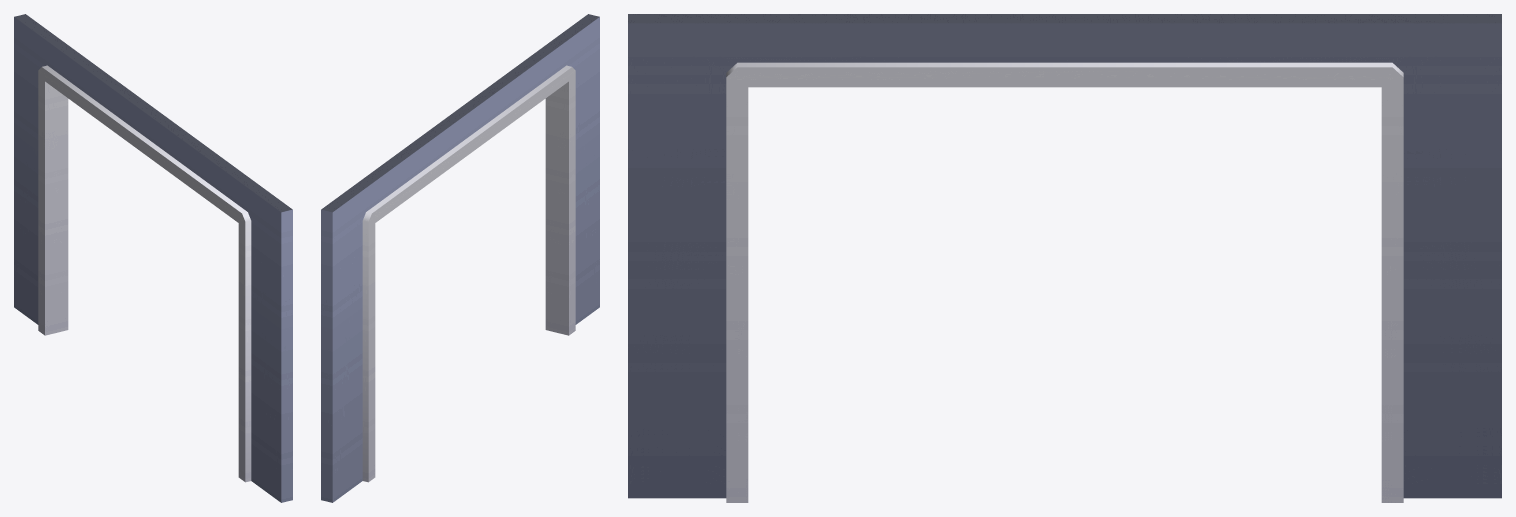
The model's file is wall_doorway_wide_square.glb.
The picture shows the model from 3 angles, left to right: view 1: azimuth 30°, elevation 25°; view 2: azimuth 150°, elevation 25°; view 3: azimuth 270°, elevation 25°; orthographic projection. The views are drawn at different scales.
Visible parts, largest first — view 1: wall-doorway-wide-square; view 2: wall-doorway-wide-square; view 3: wall-doorway-wide-square.
Boxes of the visible parts, x1,y1,x2,y2 form: wall-doorway-wide-square: (14, 14, 292, 502); wall-doorway-wide-square: (321, 14, 599, 502); wall-doorway-wide-square: (628, 14, 1501, 502).
Size of the model in its own units: 0.2 by 2.4 by 4.
Materials: 1 (1 with a texture image).
